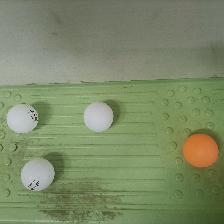WhiteBall: (20, 157, 54, 190), (5, 102, 38, 133), (82, 101, 113, 132)
YellowBall: (182, 133, 218, 167)
